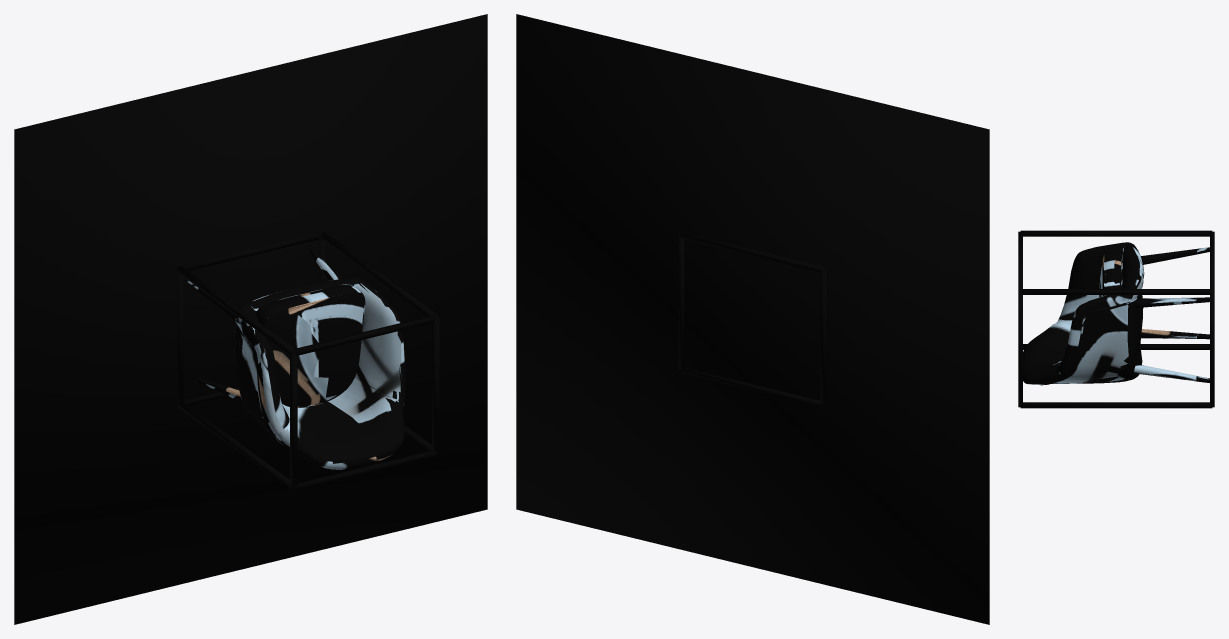
The picture shows the model from 3 angles, left to right: view 1: azimuth 30°, elevation 25°; view 2: azimuth 150°, elevation 25°; view 3: azimuth 270°, elevation 25°; orthographic projection. The views are drawn at different scales.
Bounding box in the file's own units: 2 × 2 × 0.8535.
